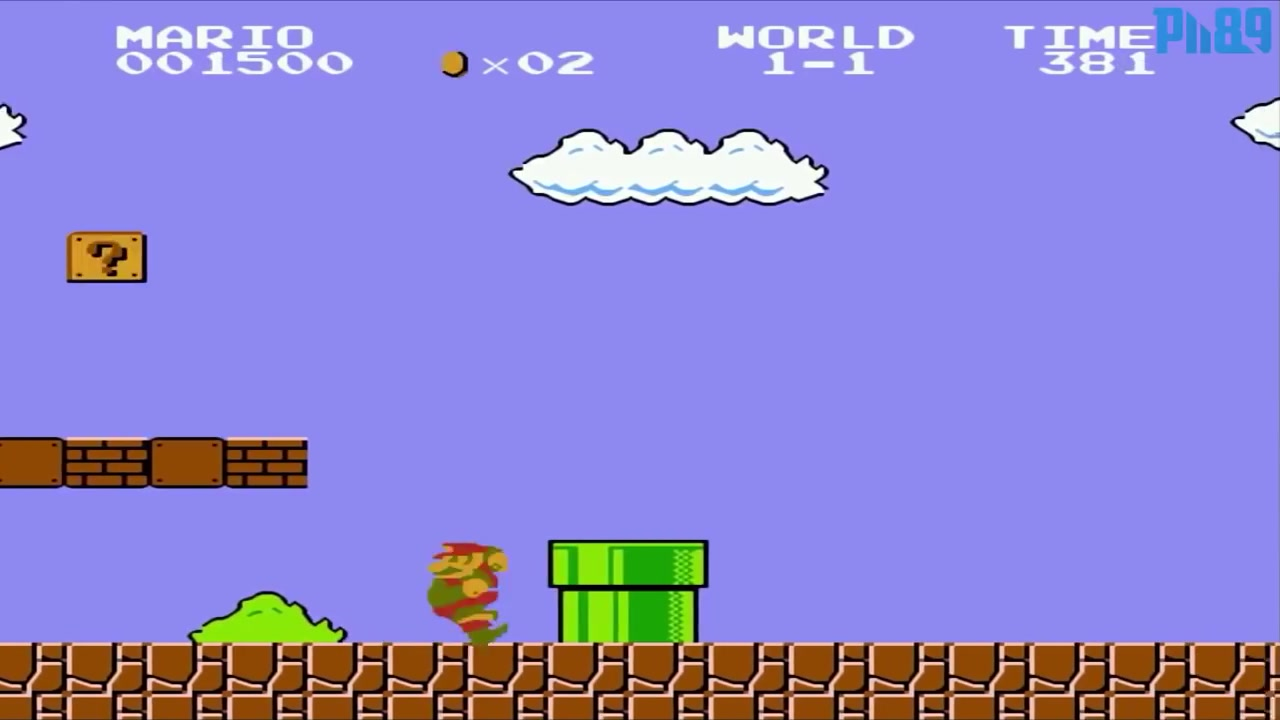mario: (413, 528, 522, 647)
